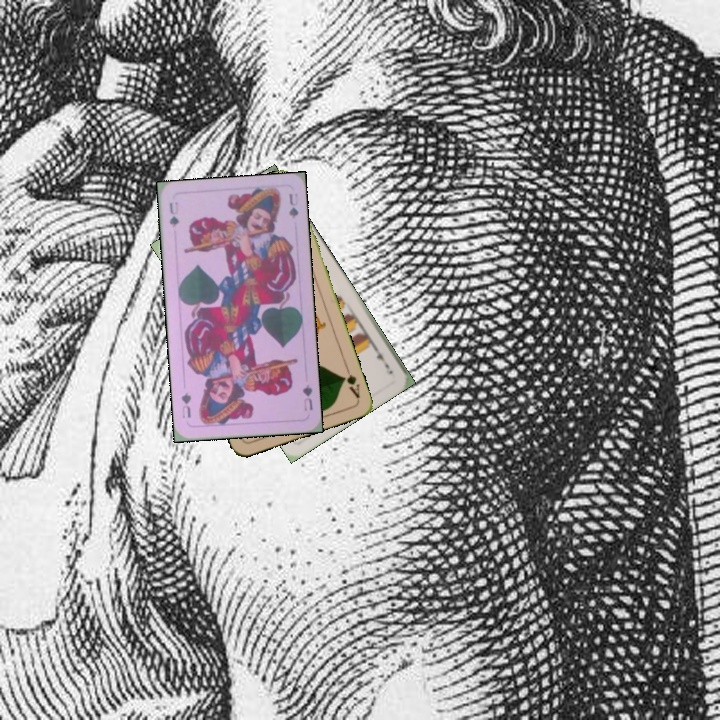E7: (369, 341, 392, 371)
GA: (338, 362, 363, 401)
GU: (298, 380, 315, 413), (165, 198, 182, 230)
